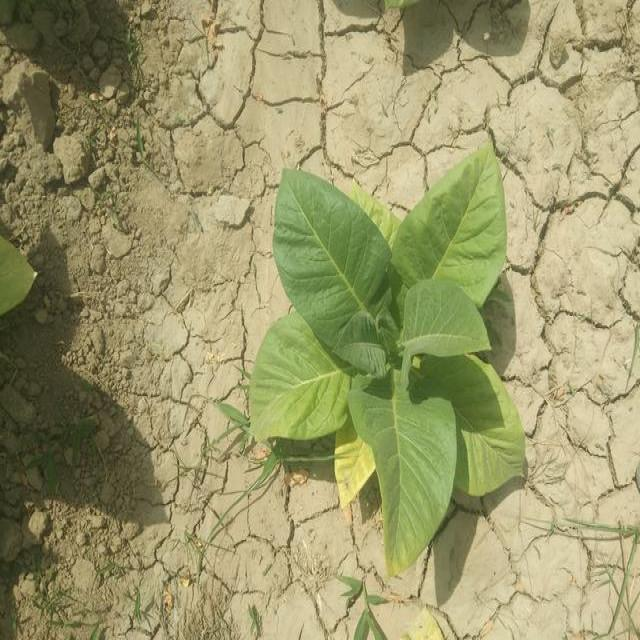crop: (252, 159, 536, 568)
